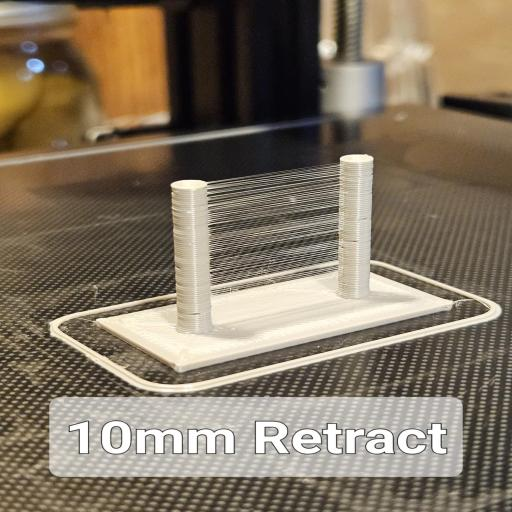stringing: (208, 162, 345, 298)
